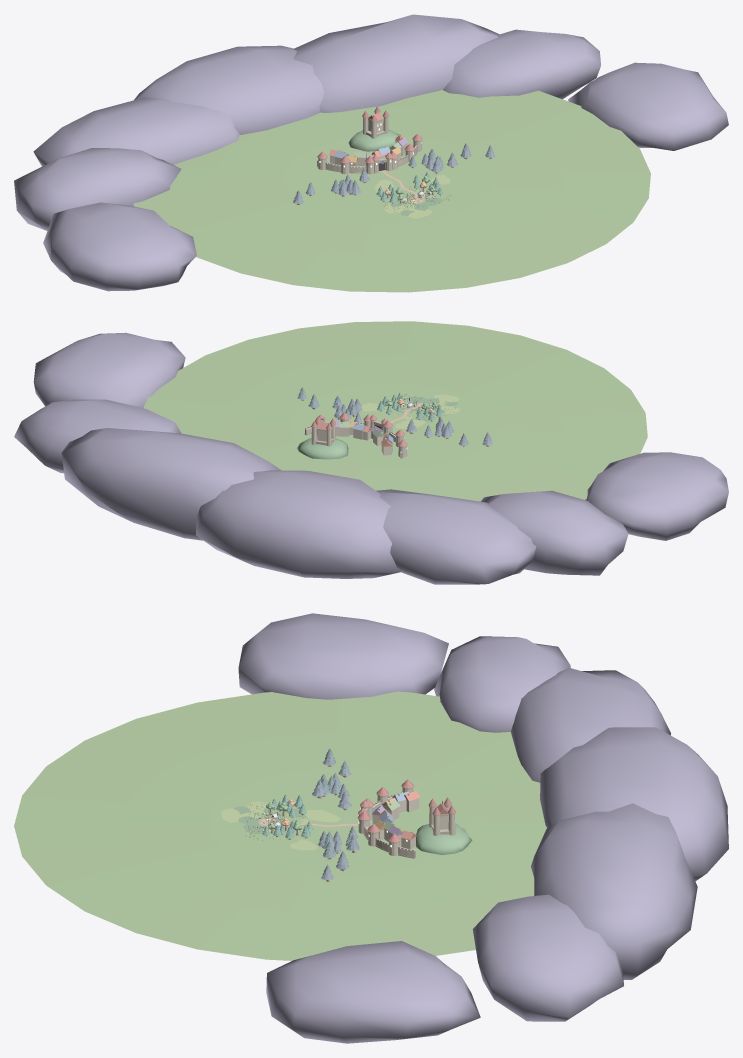
The model's file is menu_set.glb.
The picture shows the model from 3 angles, top to bottom: view 1: azimuth 30°, elevation 25°; view 2: azimuth 150°, elevation 25°; view 3: azimuth 270°, elevation 25°; orthographic projection. The views are drawn at different scales.
Visible parts, largest first — view 1: MS_backdrop, MS_ground, MS_camp; view 2: MS_backdrop, MS_ground, MS_camp; view 3: MS_ground, MS_backdrop, MS_camp.
Part boxes in pixels (x1,y1,x2,y2): MS_backdrop: (14, 14, 728, 291); MS_ground: (133, 90, 650, 292); MS_camp: (376, 172, 450, 212); MS_backdrop: (14, 332, 728, 584); MS_ground: (143, 321, 647, 501); MS_camp: (377, 393, 456, 421); MS_ground: (14, 691, 546, 960); MS_backdrop: (238, 613, 728, 1043); MS_camp: (246, 794, 313, 840).
Size of the model in its own units: 441 by 53.7 by 331.
